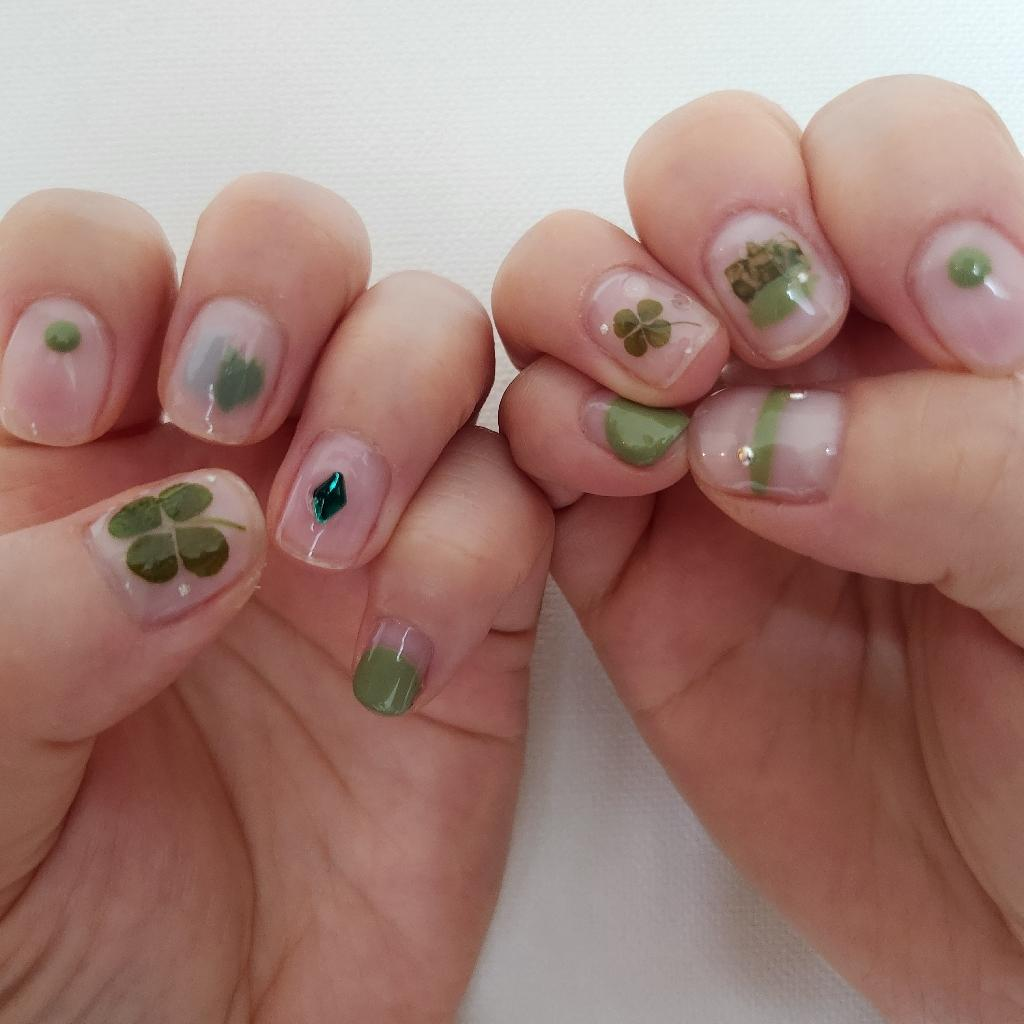nail: (269, 268, 494, 571), (800, 71, 1023, 375), (622, 87, 851, 369), (350, 424, 555, 716), (155, 169, 371, 446), (491, 207, 730, 407), (0, 185, 177, 447), (81, 465, 267, 627), (686, 383, 846, 504), (274, 427, 391, 570), (351, 615, 434, 716)
